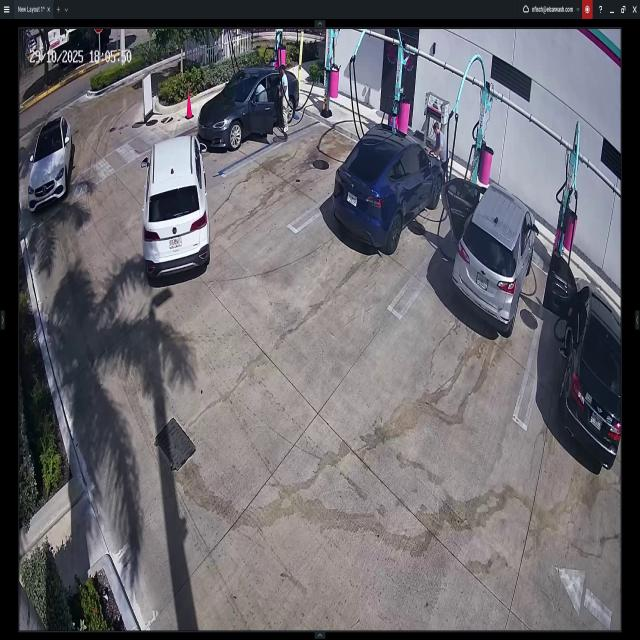Car: (550, 256, 622, 465), (334, 121, 446, 249), (442, 176, 536, 323), (201, 59, 299, 164), (142, 135, 212, 277), (30, 119, 74, 212)
